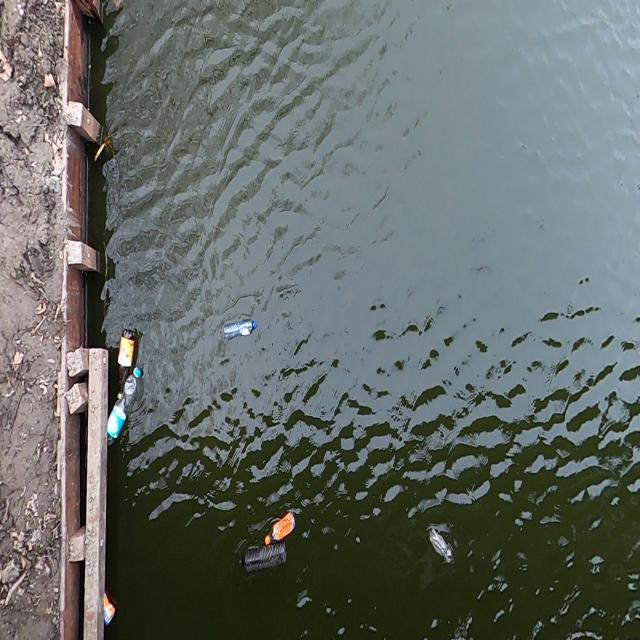Bouteille plastique: (106, 357, 148, 457), (111, 322, 143, 402), (233, 540, 297, 579), (218, 310, 261, 347)
